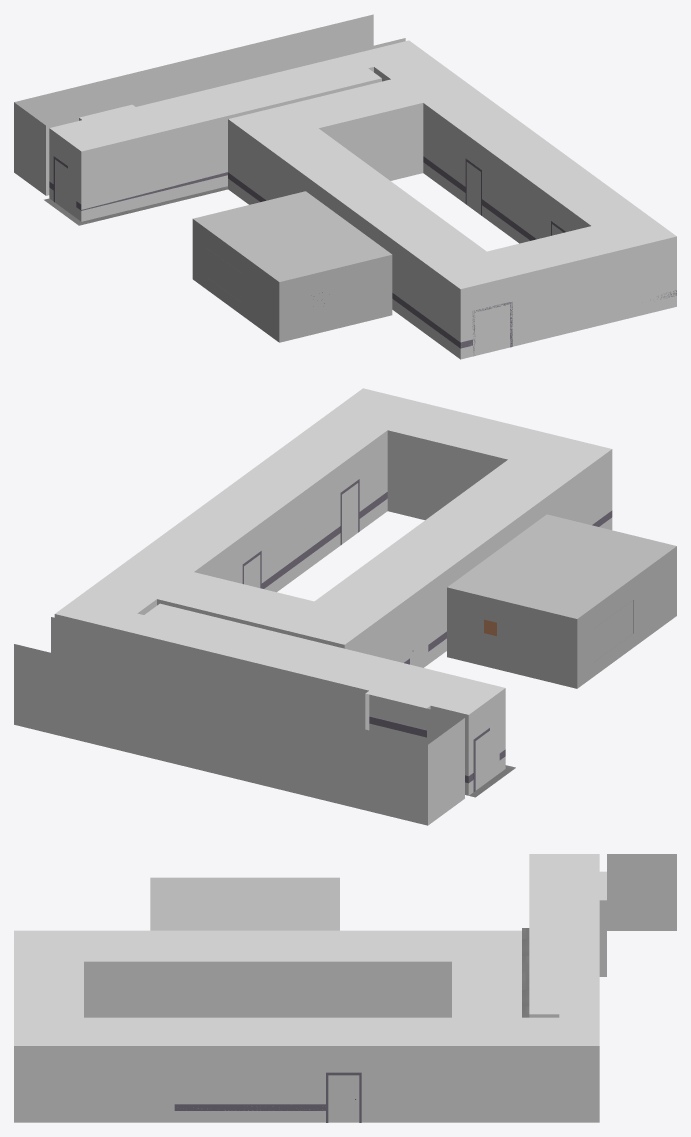
The model's file is etage_hopital.fbx.
The picture shows the model from 3 angles, top to bottom: view 1: azimuth 30°, elevation 25°; view 2: azimuth 150°, elevation 25°; view 3: azimuth 270°, elevation 25°; orthographic projection. The views are drawn at different scales.
Parts seen in each view (by area): view 1: Plane.037, Plane; view 2: Plane.037, Plane; view 3: Plane.037, Plane, Plane.148, Cylinder.013.
Part boxes in pixels (left/top/right/bottom): Plane.037: left=14, top=14, right=676, bottom=359; Plane: left=192, top=191, right=392, bottom=342; Plane.037: left=14, top=388, right=612, bottom=825; Plane: left=447, top=514, right=676, bottom=688; Plane.037: left=14, top=854, right=676, bottom=1122; Plane: left=150, top=877, right=339, bottom=930; Plane.148: left=174, top=1104, right=325, bottom=1110; Cylinder.013: left=326, top=1072, right=361, bottom=1122.
Bounding box in the file's own units: 27.94 × 40.15 × 5.14.
